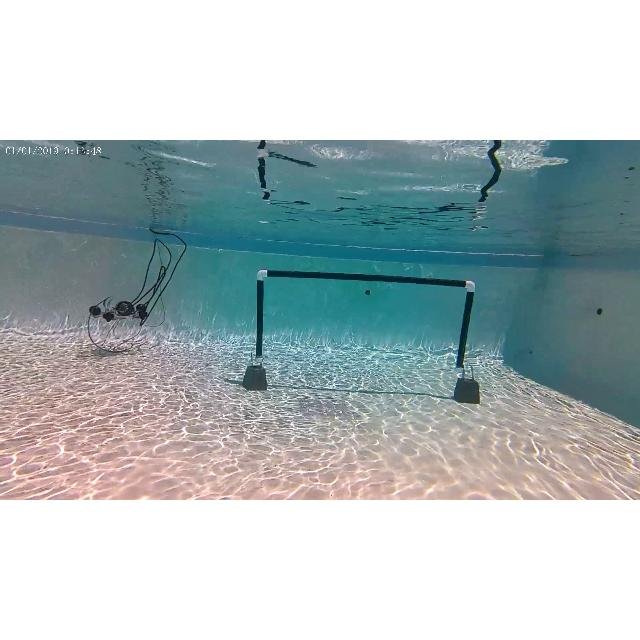prequal gate: (253, 268, 475, 372)
prequal gate leg l: (244, 270, 272, 392)
prequal gate leg r: (457, 280, 483, 400)
